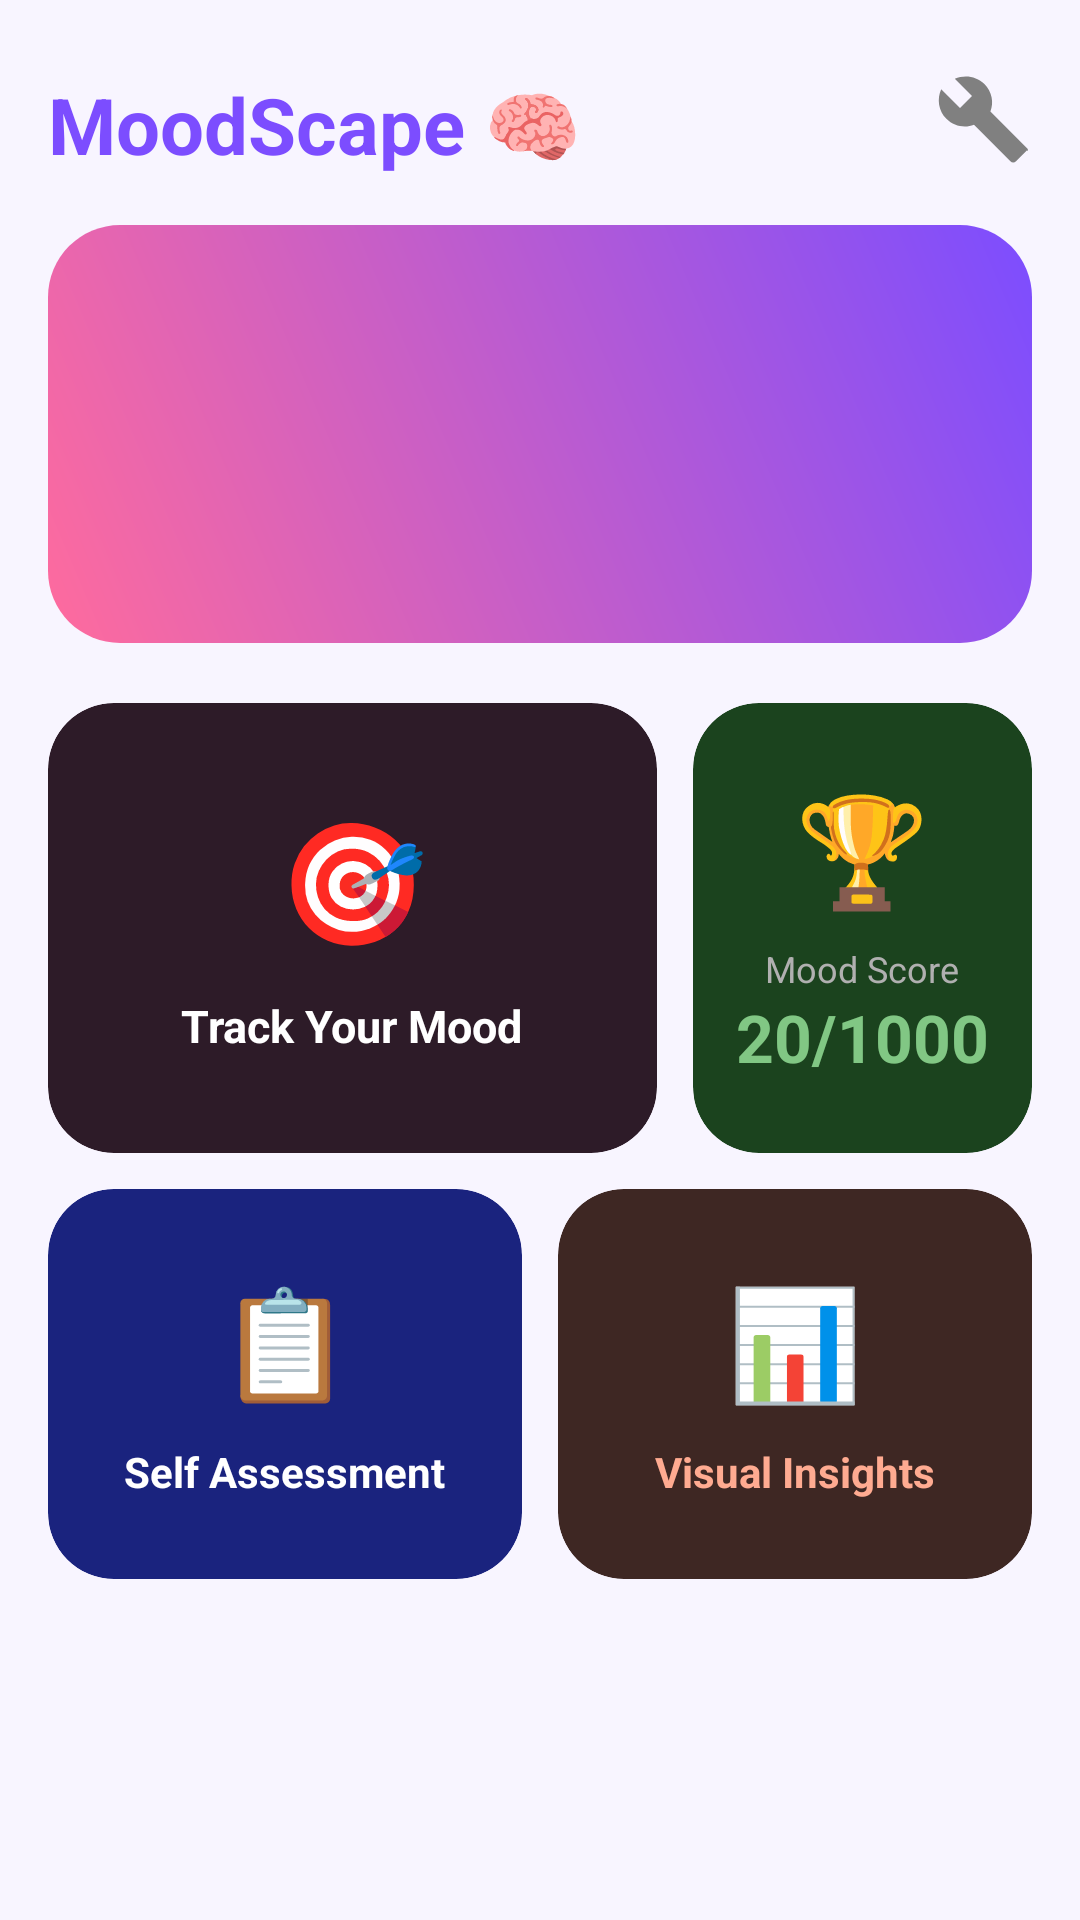

Where icons sit on this 1080px×1920px app screen, as box(x1, y1, x2, y2):
settings: box(938, 76, 1028, 163)
